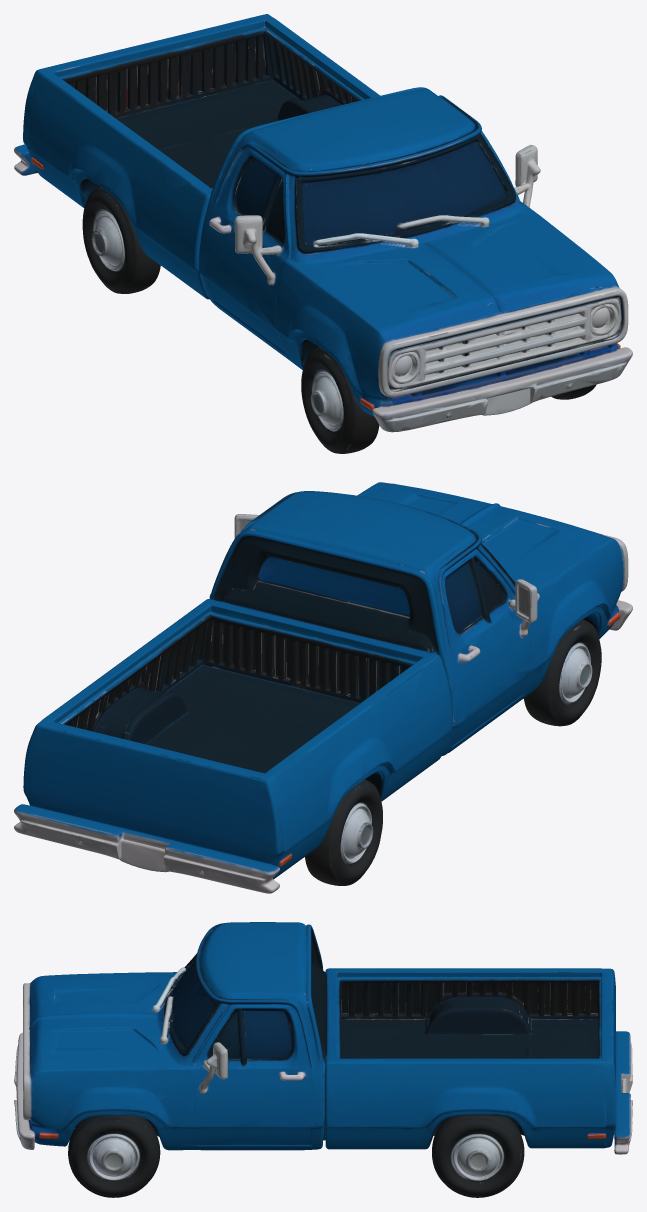
Rendered from carro-game-comprimido.glb.
3 views of the same model, one above another, from view 1: azimuth 30°, elevation 25°; view 2: azimuth 150°, elevation 25°; view 3: azimuth 270°, elevation 25° (orthographic). The views are drawn at different scales.
Visible parts, largest first — view 1: texture_pbr_v1.001; view 2: texture_pbr_v1.001; view 3: texture_pbr_v1.001.
Boxes of the visible parts, x1,y1,x2,y2 form: texture_pbr_v1.001: (14,14,632,453); texture_pbr_v1.001: (14,482,632,893); texture_pbr_v1.001: (14,922,632,1197).
Bounding box in the file's own units: 0.5229 × 0.3886 × 1.12.
1 material, 1 textured.
